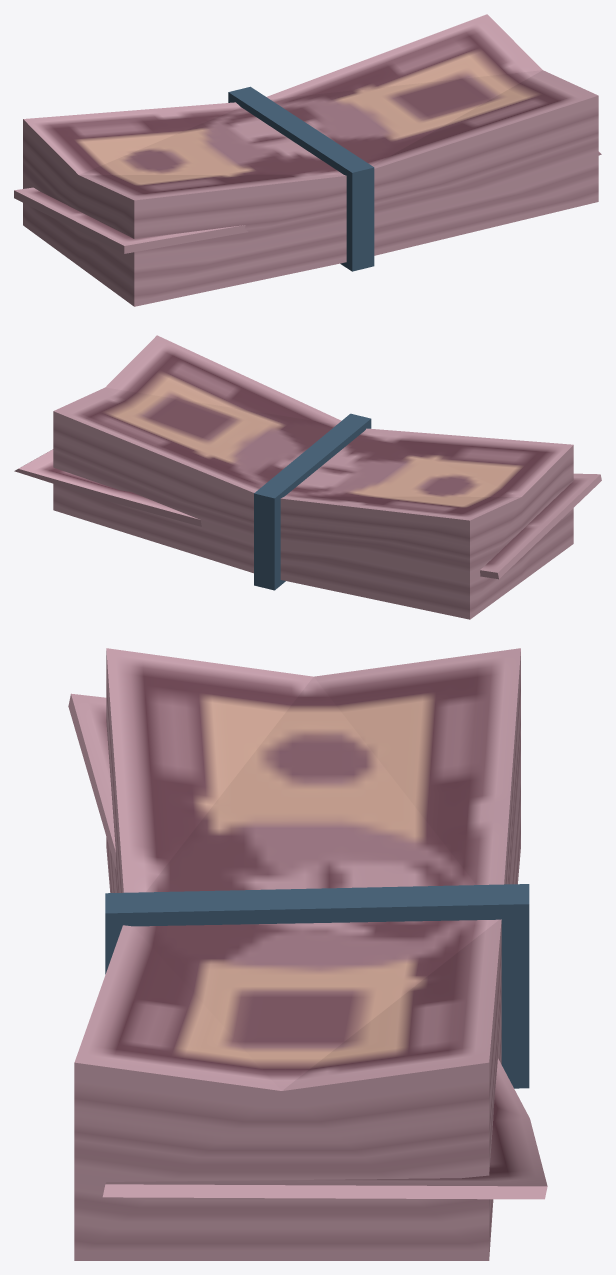
File: SM_Prop_Money_Strapped_04.fbx
3 renders of one model, top to bottom at view 1: azimuth 30°, elevation 25°; view 2: azimuth 150°, elevation 25°; view 3: azimuth 270°, elevation 25°, orthographic. The views are drawn at different scales.
Visible parts, largest first — view 1: SM_Prop_Money_Strapped_04; view 2: SM_Prop_Money_Strapped_04; view 3: SM_Prop_Money_Strapped_04.
Boxes of the visible parts, box(x1,y1,x2,y2) form: SM_Prop_Money_Strapped_04: box(14, 14, 601, 306); SM_Prop_Money_Strapped_04: box(14, 335, 601, 619); SM_Prop_Money_Strapped_04: box(68, 648, 547, 1260).
Size of the model in its own units: 30.2 by 7.12 by 13.37.
